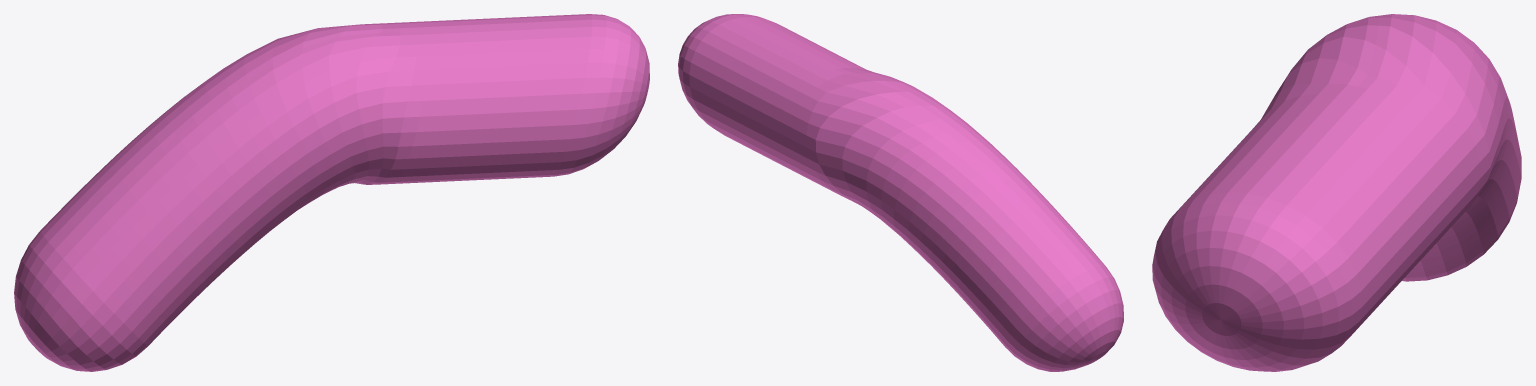
File: Sausage5.glb
The picture shows the model from 3 angles, left to right: view 1: azimuth 30°, elevation 25°; view 2: azimuth 150°, elevation 25°; view 3: azimuth 270°, elevation 25°; orthographic projection. The views are drawn at different scales.
Parts seen in each view (by area): view 1: Sphere.002; view 2: Sphere.002; view 3: Sphere.002.
Part boxes in pixels (x1=…): Sphere.002: x1=14, y1=14, x2=649, y2=371; Sphere.002: x1=678, y1=14, x2=1123, y2=371; Sphere.002: x1=1152, y1=14, x2=1521, y2=371.
Size of the model in its own units: 8.39 by 3.93 by 3.42.
